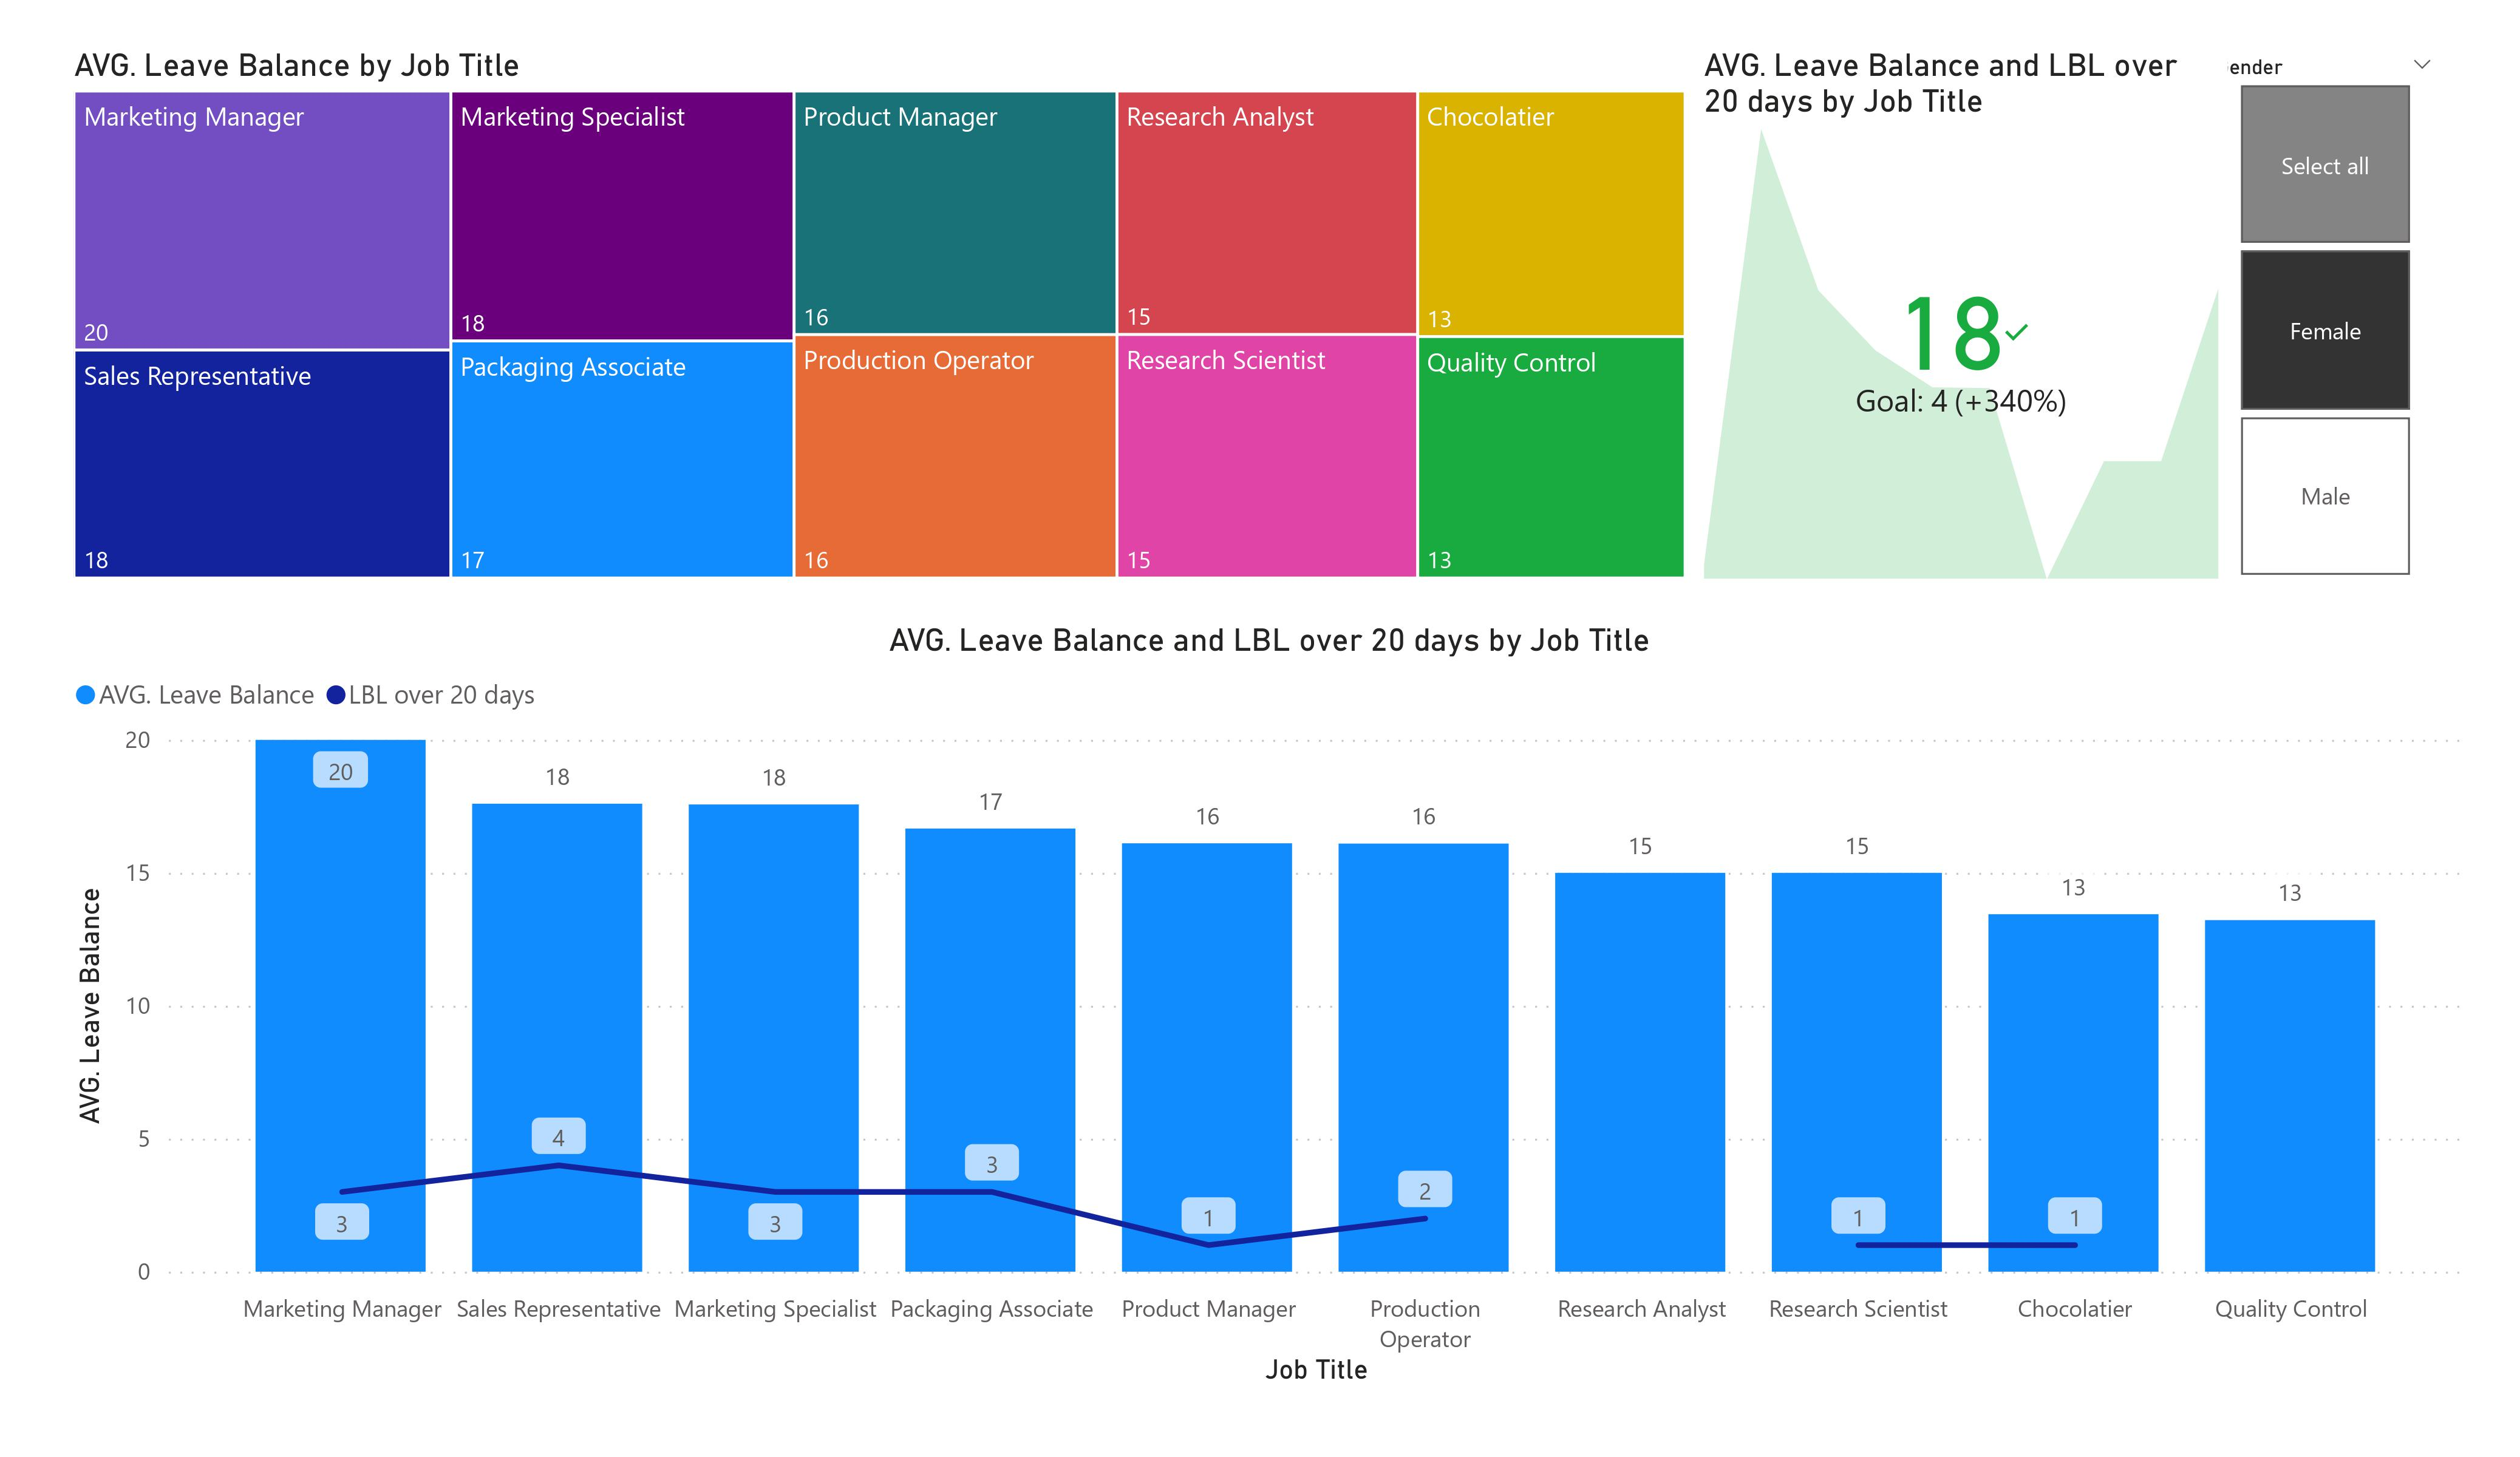

Layout of this report page (visuals, bound fields, positions):
{"tool":"powerbi","page":{"name":"Page 4","canvas":[1280,720],"ordinal":4},"visuals":[{"type":"lineStackedColumnComboChart","fields":{"Category":["stuff.Job Title"],"Y":["stuff.AVG. Leave Balance"],"Y2":["stuff.LBL over 20 days"]},"box":[9.7,302.6,1270.1,407.7],"z":0},{"type":"slicer","fields":{"Values":["stuff.Gender"]},"box":[1131,0,139.1,286.4],"z":1000},{"type":"kpi","fields":{"Indicator":["stuff.AVG. Leave Balance"],"Goal":["stuff.LBL over 20 days"],"TrendLine":["stuff.Job Title"]},"box":[868.9,0,281.5,286.4],"z":2000},{"type":"treemap","fields":{"Group":["stuff.Job Title"],"Values":["stuff.AVG. Leave Balance"]},"box":[9.7,0,859.1,286.4],"z":3000}]}

Visuals, with their boxes in screenshot pixels (x1, y1, x2, y2):
lineStackedColumnComboChart - stuff.Job Title x stuff.AVG. Leave Balance: <bbox>64, 620, 2474, 1393</bbox>
slicer - stuff.Gender: <bbox>2191, 46, 2456, 589</bbox>
kpi - stuff.AVG. Leave Balance x stuff.LBL over 20 days: <bbox>1694, 46, 2229, 589</bbox>
treemap - stuff.Job Title x stuff.AVG. Leave Balance: <bbox>64, 46, 1694, 589</bbox>
